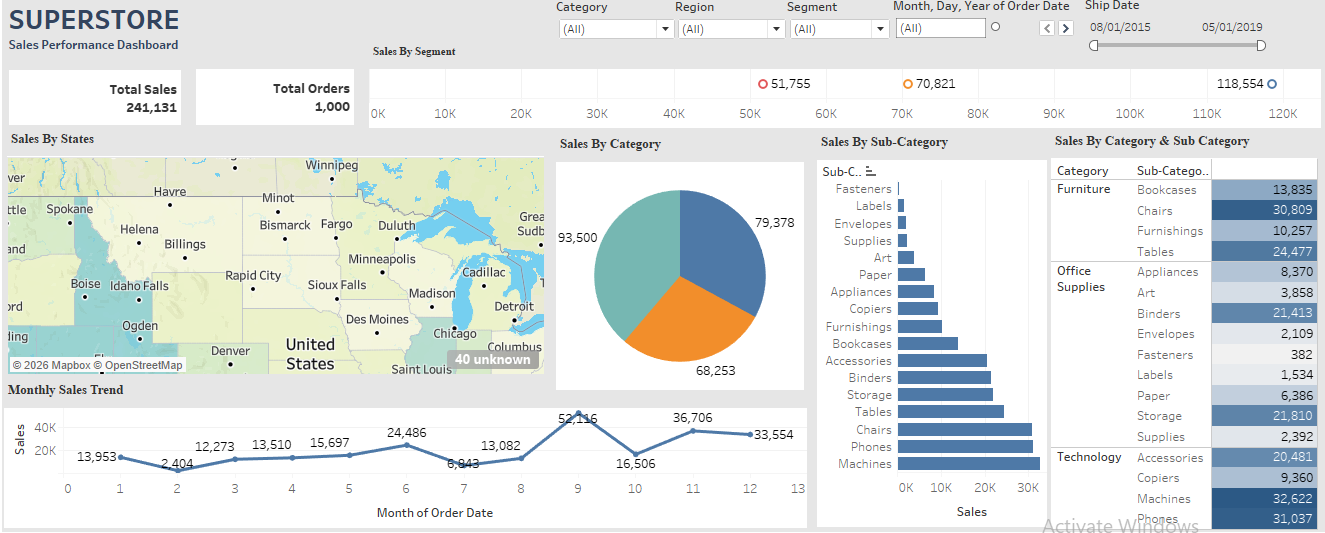

The dashboard page shown, as its layout file describes it:
{"tool":"tableau","page":{"name":"Dashboard 1","canvas":[1000,1000],"units":"permille","ordinal":0},"visuals":[{"type":"title","box":[6,14.5,988.1,112.3]},{"type":"filter","title":"Sheet 5","param":"[federated.0s94ozr13kj90h14ptc25015e50b].[none:Ship Date:qk]","box":[814,14.5,137.8,110.5]},{"type":"filter","title":"Sheet 4","param":"[federated.0s94ozr13kj90h14ptc25015e50b].[md:Order Date:ok]","box":[671,16.3,137.8,101.5]},{"type":"filter","title":"Sheet 1","param":"[federated.0s94ozr13kj90h14ptc25015e50b].[none:Category:nk]","box":[419.5,18.1,91.3,79.7]},{"type":"filter","title":"Sheet 2","param":"[federated.0s94ozr13kj90h14ptc25015e50b].[none:Region:nk]","box":[508.2,18.1,85.3,79.7]},{"type":"filter","title":"Sheet 3","param":"[federated.0s94ozr13kj90h14ptc25015e50b].[none:Segment:nk]","box":[591.7,18.1,79.2,79.7]},{"type":"worksheet","title":"Sheet 1","mark":"Automatic","box":[329.9,36.2,6,12.7]},{"type":"worksheet","title":"Sheet 2","mark":"Automatic","box":[302.3,41.7,5.2,7.2]},{"type":"worksheet","title":"Sheet 4","mark":"Automatic","box":[224.8,54.4,7.8,19.9]},{"type":"worksheet","title":"Sheet 3","mark":"Automatic","box":[351.4,56.2,3.5,7.2]},{"type":"worksheet","title":"Sheet 5","mark":"Automatic","box":[367.8,61.6,5.2,9.1]},{"type":"worksheet","title":"Sheet 15","mark":"Shape","cols":["Sales"],"box":[279.9,96,710.6,157.6]},{"type":"worksheet","title":"Sheet 9","mark":"Automatic","box":[150.7,119.6,118,128.6]},{"type":"worksheet","title":"Sheet 8","mark":"Automatic","box":[11.2,121.4,128.3,126.8]},{"type":"worksheet","title":"Sheet 6","mark":"Automatic","box":[9.5,251.8,401.4,449.3]},{"type":"worksheet","title":"Sheet 13","mark":"Square","rows":["Category","Sub-Category"],"box":[789,255.4,199,726.5]},{"type":"worksheet","title":"Sheet 12","mark":"Automatic","rows":["Sub-Category"],"cols":["Sales"],"box":[614.1,257.2,171.4,719.2]},{"type":"worksheet","title":"Sheet 11","mark":"Pie","box":[419.5,260.9,185.2,467.4]},{"type":"worksheet","title":"Sheet 7","mark":"Automatic","rows":["Sales"],"cols":["Order Date"],"box":[7.8,706.5,599.5,271.7]}]}

Visuals, with their boxes on the dashboard's canvas, which has no fixed pixel size, in thousandths of its width and height (x1, y1, x2, y2). These are canvas units, not pixel positions in the 1325x533 screenshot, which may show the page scaled, cropped or inside an application window:
title: <bbox>6, 14, 994, 127</bbox>
"Sheet 5" filter: <bbox>814, 14, 952, 125</bbox>
"Sheet 4" filter: <bbox>671, 16, 809, 118</bbox>
"Sheet 1" filter: <bbox>420, 18, 511, 98</bbox>
"Sheet 2" filter: <bbox>508, 18, 594, 98</bbox>
"Sheet 3" filter: <bbox>592, 18, 671, 98</bbox>
"Sheet 1" worksheet: <bbox>330, 36, 336, 49</bbox>
"Sheet 2" worksheet: <bbox>302, 42, 308, 49</bbox>
"Sheet 4" worksheet: <bbox>225, 54, 233, 74</bbox>
"Sheet 3" worksheet: <bbox>351, 56, 355, 63</bbox>
"Sheet 5" worksheet: <bbox>368, 62, 373, 71</bbox>
"Sheet 15" worksheet (Shape marks): <bbox>280, 96, 990, 254</bbox>
"Sheet 9" worksheet: <bbox>151, 120, 269, 248</bbox>
"Sheet 8" worksheet: <bbox>11, 121, 140, 248</bbox>
"Sheet 6" worksheet: <bbox>10, 252, 411, 701</bbox>
"Sheet 13" worksheet (Square marks): <bbox>789, 255, 988, 982</bbox>
"Sheet 12" worksheet: <bbox>614, 257, 786, 976</bbox>
"Sheet 11" worksheet (Pie marks): <bbox>420, 261, 605, 728</bbox>
"Sheet 7" worksheet: <bbox>8, 706, 607, 978</bbox>
